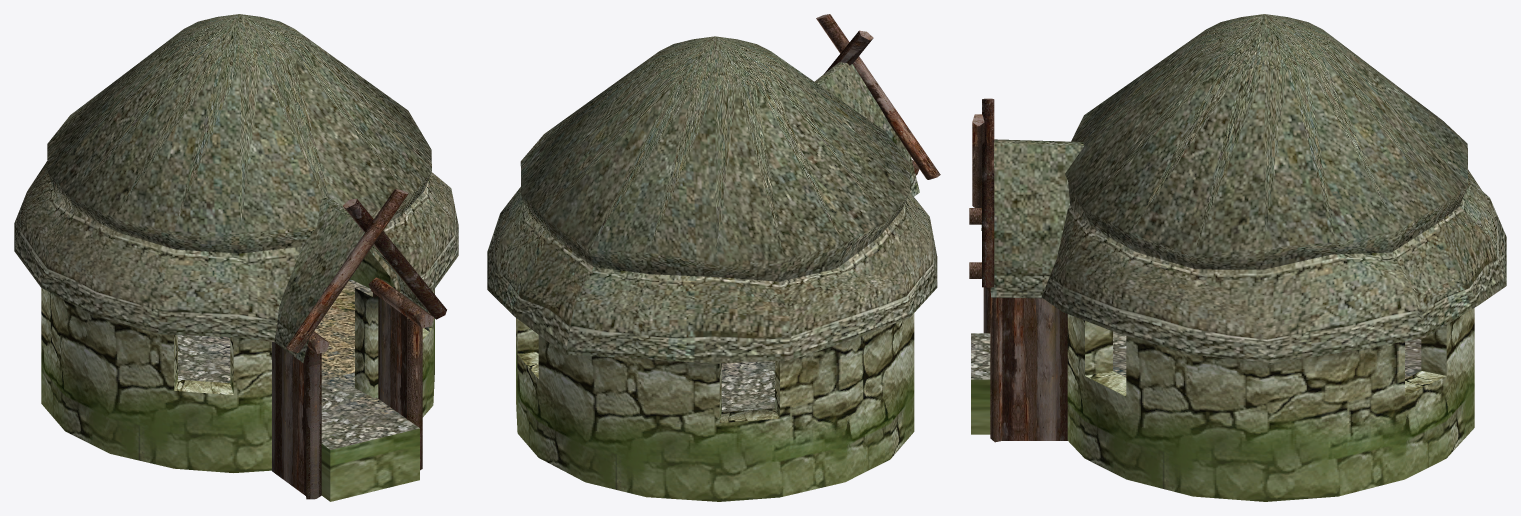
File: building_hovel6.glb
The picture shows the model from 3 angles, left to right: view 1: azimuth 30°, elevation 25°; view 2: azimuth 150°, elevation 25°; view 3: azimuth 270°, elevation 25°; orthographic projection. The views are drawn at different scales.
Visible parts, largest first — view 1: building_hovel6; view 2: building_hovel6; view 3: building_hovel6.
Boxes of the visible parts, x1=… form: building_hovel6: x1=14, y1=14, x2=458, y2=501; building_hovel6: x1=487, y1=14, x2=940, y2=501; building_hovel6: x1=969, y1=14, x2=1506, y2=501.
Bounding box in the file's own units: 4.79 × 4.4 × 5.37.
Materials: 5 (5 with a texture image).
